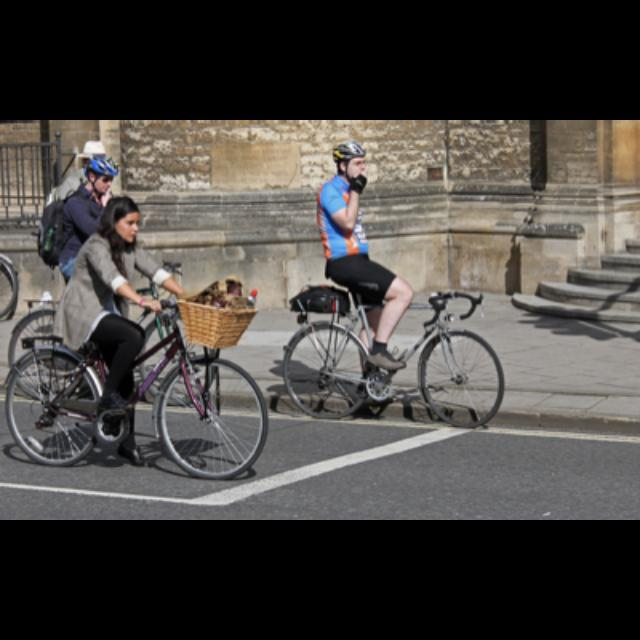With Helmet: (330, 137, 368, 179), (86, 149, 118, 191)
Without Helmet: (104, 190, 140, 243)
